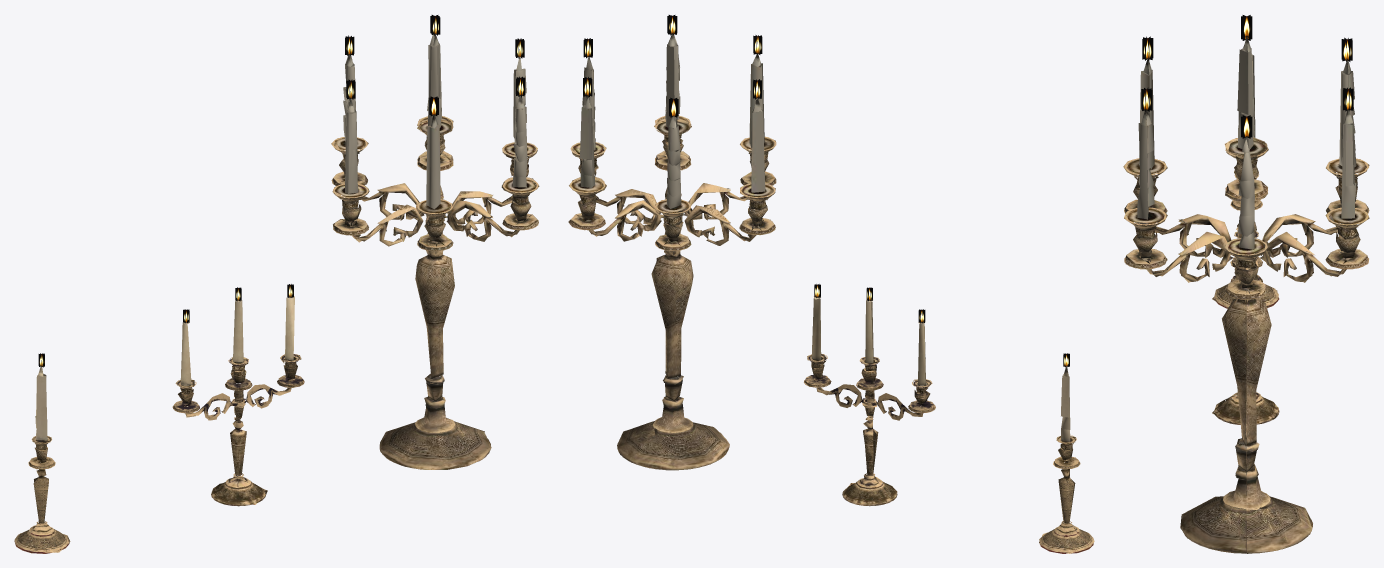
File: ph_brass_candleholders.glb
The picture shows the model from 3 angles, left to right: view 1: azimuth 30°, elevation 25°; view 2: azimuth 150°, elevation 25°; view 3: azimuth 270°, elevation 25°; orthographic projection. The views are drawn at different scales.
Parts seen in each view (by area): view 1: brass_candleholder_03; view 2: brass_candleholder_03; view 3: brass_candleholder_03.
Boxes of the visible parts, left/top/right/bottom form: brass_candleholder_03: left=14, top=15, right=539, bottom=553; brass_candleholder_03: left=568, top=15, right=1094, bottom=553; brass_candleholder_03: left=1123, top=15, right=1369, bottom=553.
Bounding box in the file's own units: 1.05 × 0.8353 × 0.3662.
5 materials, 5 textured.
